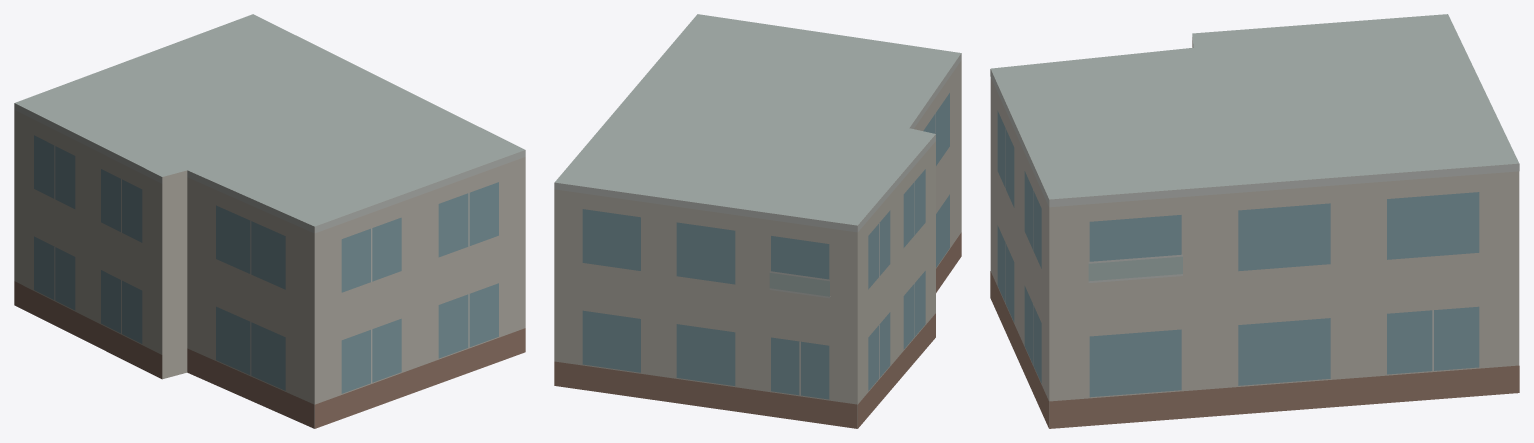
The model's file is survey-upis-32631913.glb.
3 views of the same model, side by side, from view 1: azimuth 30°, elevation 25°; view 2: azimuth 150°, elevation 25°; view 3: azimuth 270°, elevation 25° (orthographic). The views are drawn at different scales.
Parts seen in each view (by area): view 1: survey-upis-32631913.tmp; view 2: survey-upis-32631913.tmp; view 3: survey-upis-32631913.tmp.
Boxes of the visible parts, bbox=[...] form: survey-upis-32631913.tmp: bbox=[14, 14, 525, 428]; survey-upis-32631913.tmp: bbox=[554, 14, 961, 428]; survey-upis-32631913.tmp: bbox=[990, 14, 1519, 428].
Bounding box in the file's own units: 12.5 × 7.2 × 15.06.
